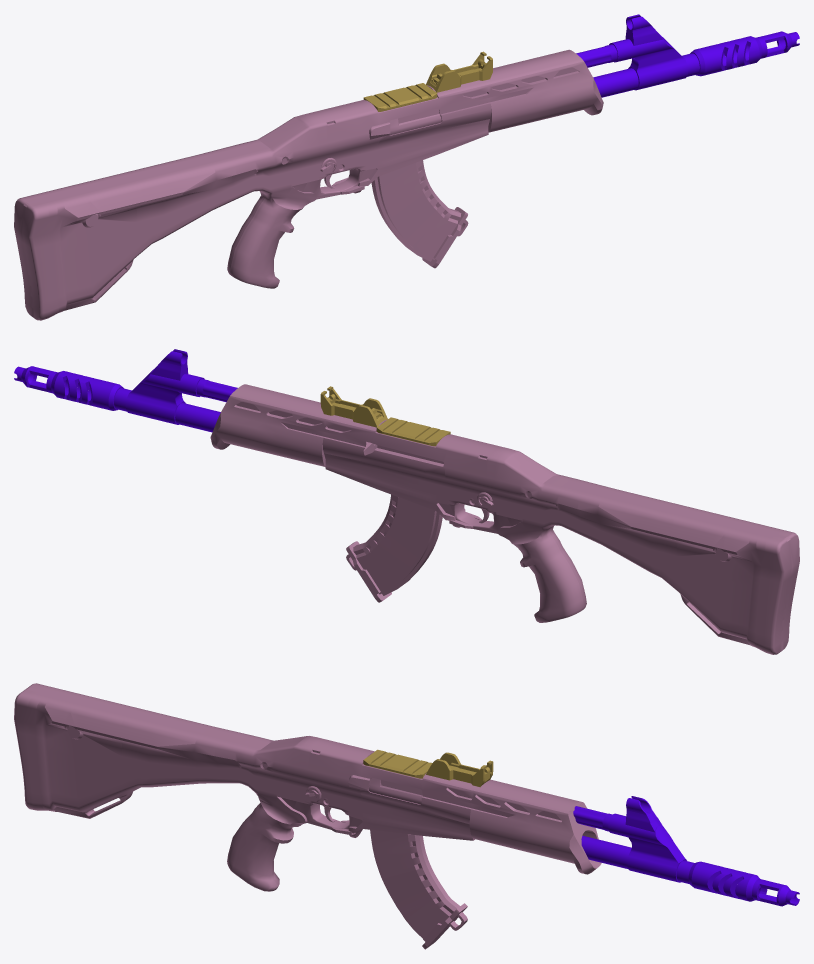
The model's file is Vandal.fbx.
3 renders of one model, top to bottom at view 1: azimuth 30°, elevation 25°; view 2: azimuth 150°, elevation 25°; view 3: azimuth 330°, elevation 25°, orthographic.
Visible parts, largest first — view 1: Cuerpo, Boca, Mira; view 2: Cuerpo, Boca, Mira; view 3: Cuerpo, Boca, Mira.
Boxes of the visible parts, x1,y1,x2,y2 form: Cuerpo: [14, 49, 603, 320]; Boca: [576, 14, 799, 97]; Mira: [363, 51, 492, 111]; Cuerpo: [210, 384, 799, 654]; Boca: [14, 349, 237, 432]; Mira: [320, 386, 450, 446]; Cuerpo: [14, 683, 601, 949]; Boca: [573, 796, 799, 906]; Mira: [363, 749, 493, 787].
Size of the model in its own units: 6.44 by 1.57 by 0.4592.
